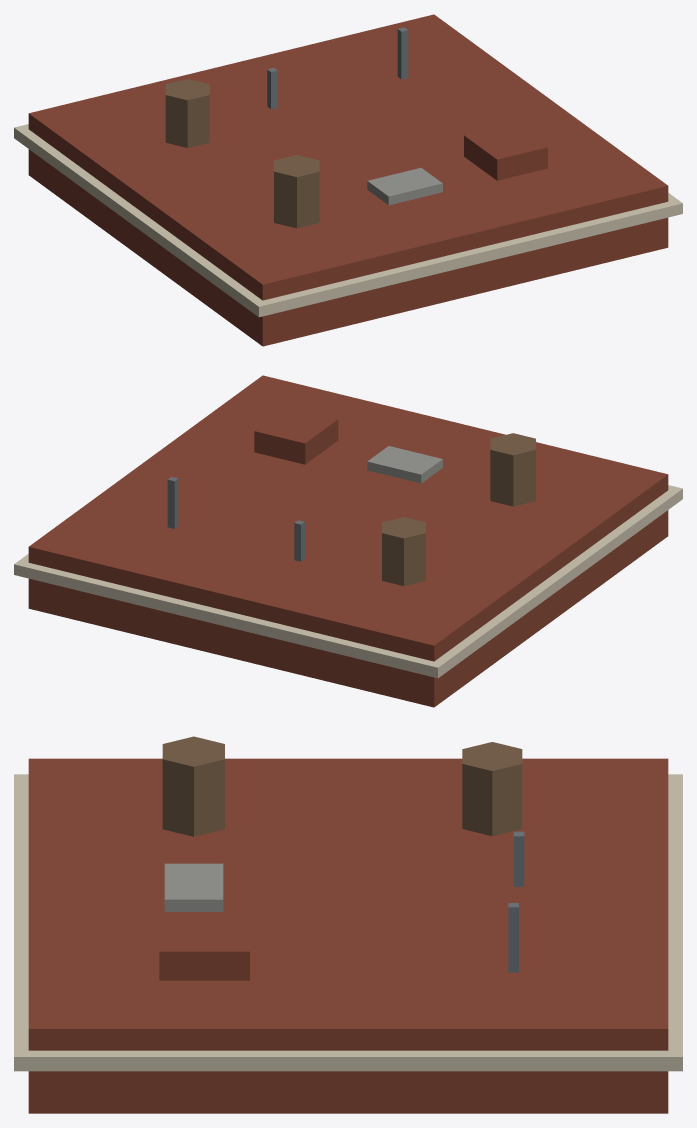
Rendered from tw_brick_24_crown_lod1.glb.
3 views of the same model, one above another, from view 1: azimuth 30°, elevation 25°; view 2: azimuth 150°, elevation 25°; view 3: azimuth 270°, elevation 25° (orthographic). The views are drawn at different scales.
Visible parts, largest first — view 1: tw_brick_24_crown_lod1; view 2: tw_brick_24_crown_lod1; view 3: tw_brick_24_crown_lod1.
Boxes of the visible parts, x1,y1,x2,y2 form: tw_brick_24_crown_lod1: (14,14,682,346); tw_brick_24_crown_lod1: (14,375,682,707); tw_brick_24_crown_lod1: (14,736,682,1113).
Size of the model in its own units: 25.1 by 6.4 by 25.1.
Materials: 2 (2 with a texture image).
